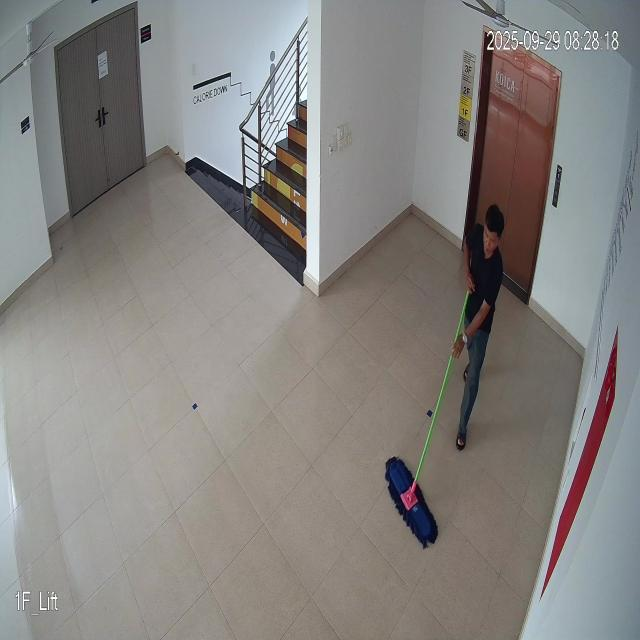face: (481, 199, 507, 259)
